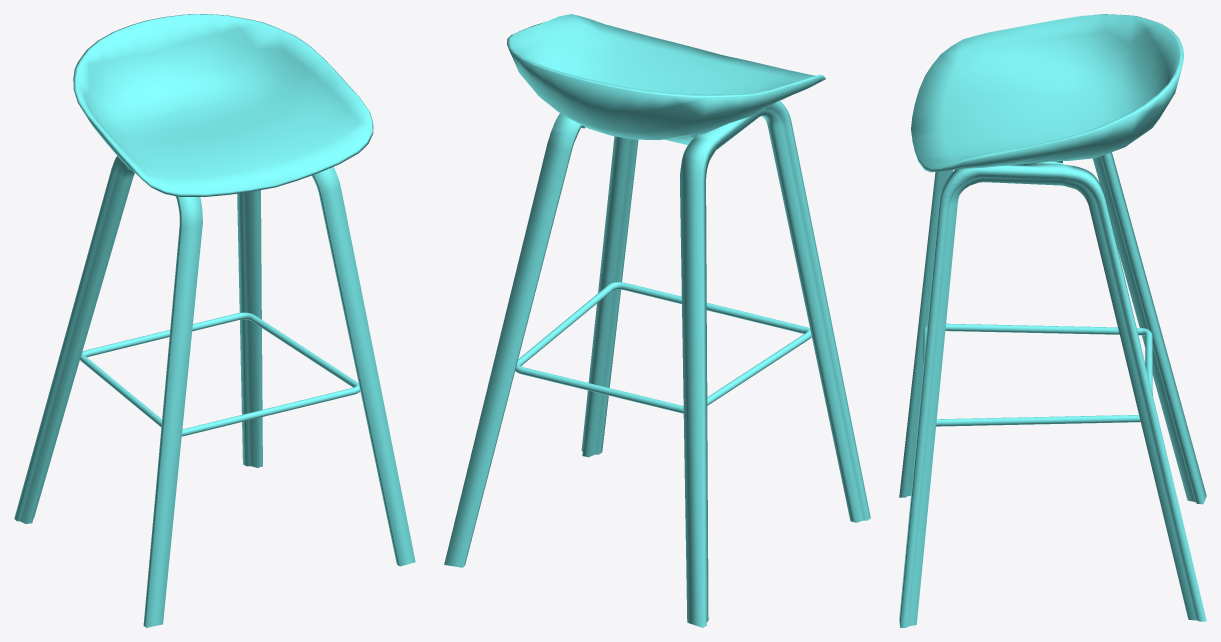
Rendered from barchair.obj.
3 views of the same model, side by side, from view 1: azimuth 30°, elevation 25°; view 2: azimuth 150°, elevation 25°; view 3: azimuth 270°, elevation 25° (orthographic). The views are drawn at different scales.
Parts seen in each view (by area): view 1: Box001; view 2: Box001; view 3: Box001.
Boxes of the visible parts, box(x1,y1,x2,y2) form: Box001: box(14, 14, 415, 627); Box001: box(444, 14, 870, 627); Box001: box(899, 14, 1206, 627).
Size of the model in its own units: 50.64 by 85.79 by 47.43.
